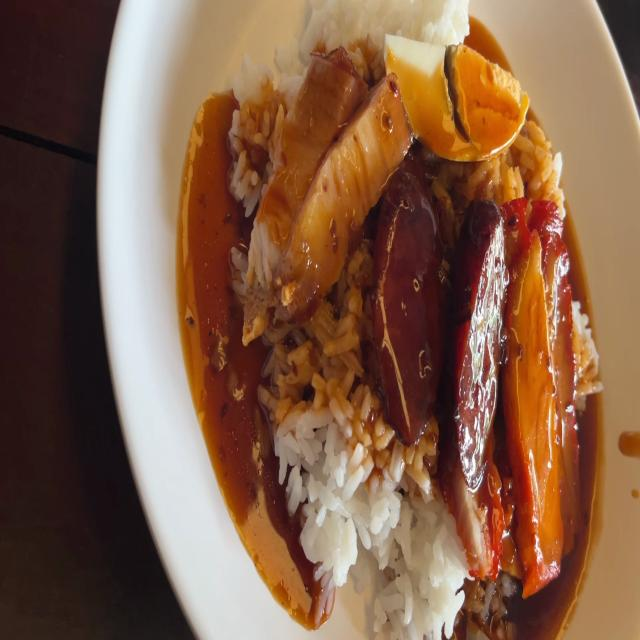01boiled_egg: (386, 34, 532, 159)
01chainese_sausage: (375, 173, 506, 472), (378, 180, 450, 424), (448, 206, 508, 470)
01crispy_pork: (244, 36, 414, 324)
01red_pork: (510, 196, 581, 570), (450, 482, 508, 585)
01red_pork_and_crispy_pork: (229, 0, 602, 640)
01rice: (262, 326, 382, 567)
